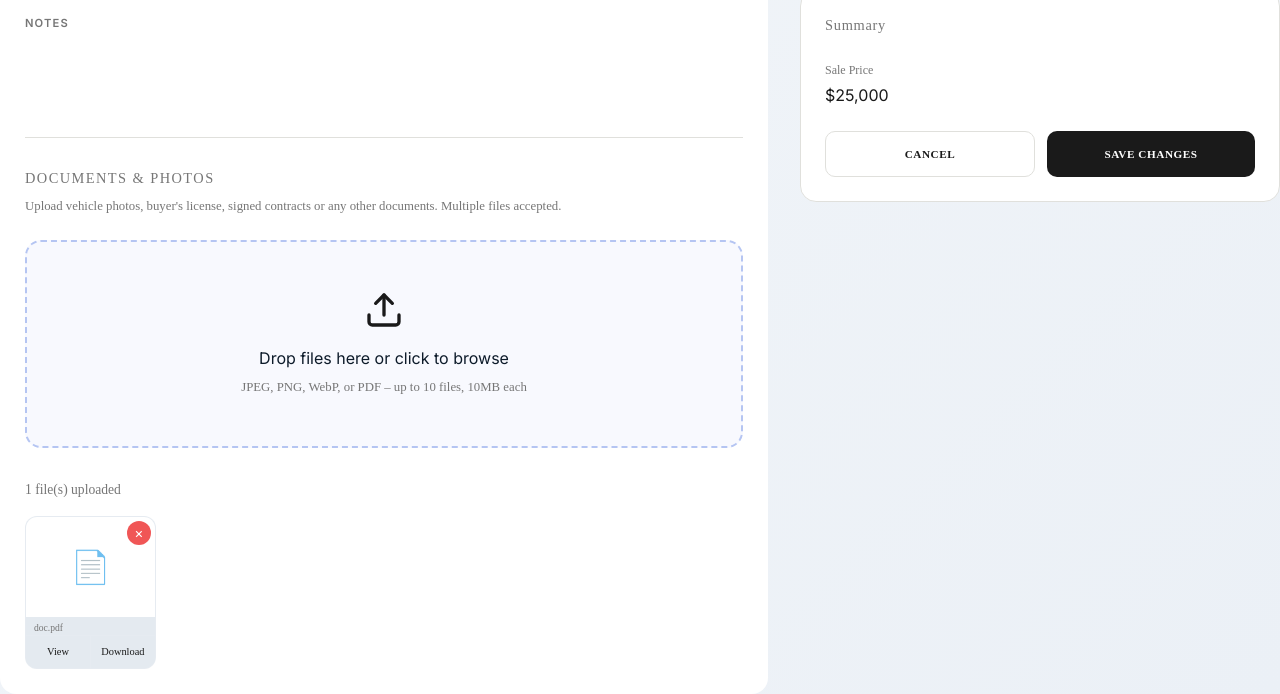
Test: AdminEditSale › allows retrying deletion after a failure, and the retry can succeed
The width and height of the screenshot is (1280, 694).
(page scrolled)
Check: the text "doc.pdf" is shown, box [34,622,63,633]
Click the button named "Remove doc.pdf": (139, 533) [127,521,151,545]
(page scrolled)
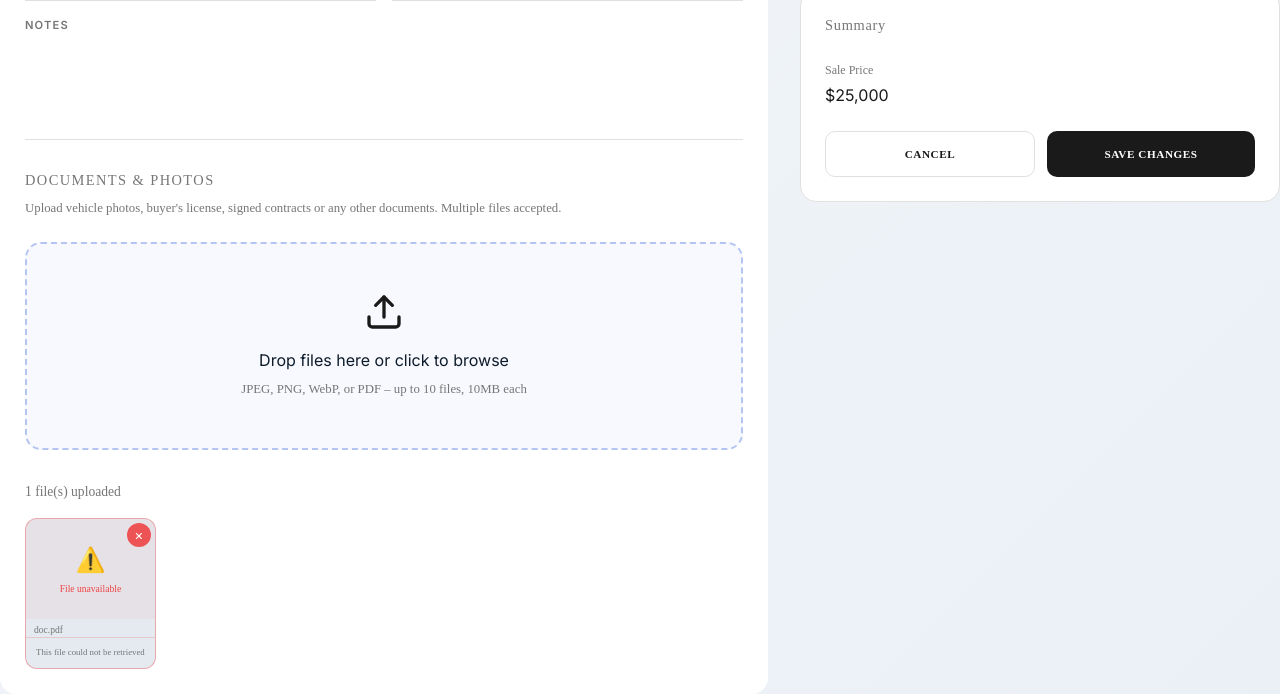
Check: the text "doc.pdf" is shown, box [34,624,63,635]
// Button must be re-enabled after the failure so the user can retry.
Click the button named "Remove doc.pdf": (139, 535) [127,523,151,547]
(page scrolled)
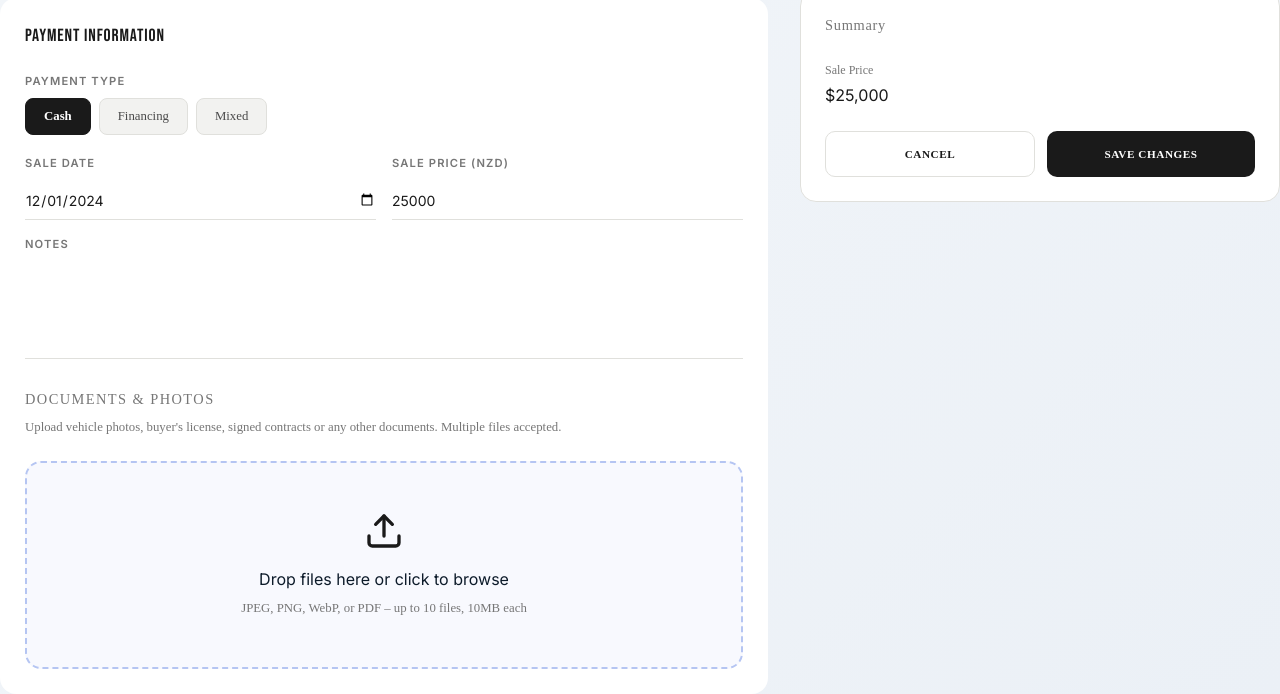
Check: the text "doc.pdf" is gone
